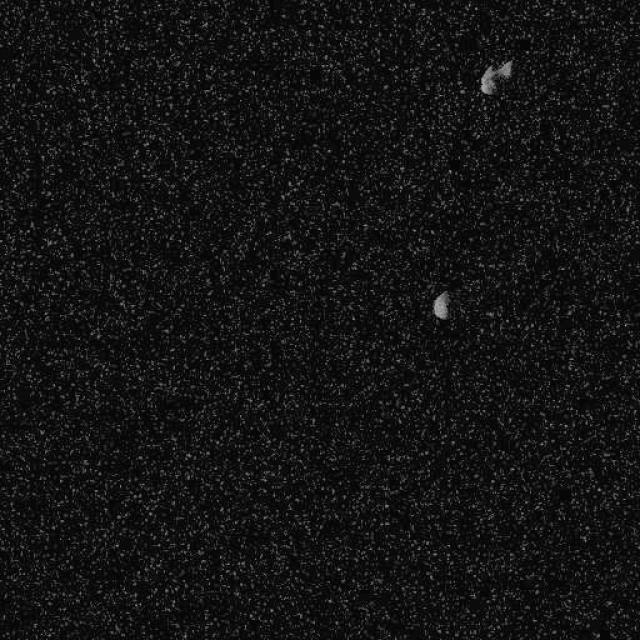D2: (478, 58, 512, 96), (431, 290, 450, 320)
